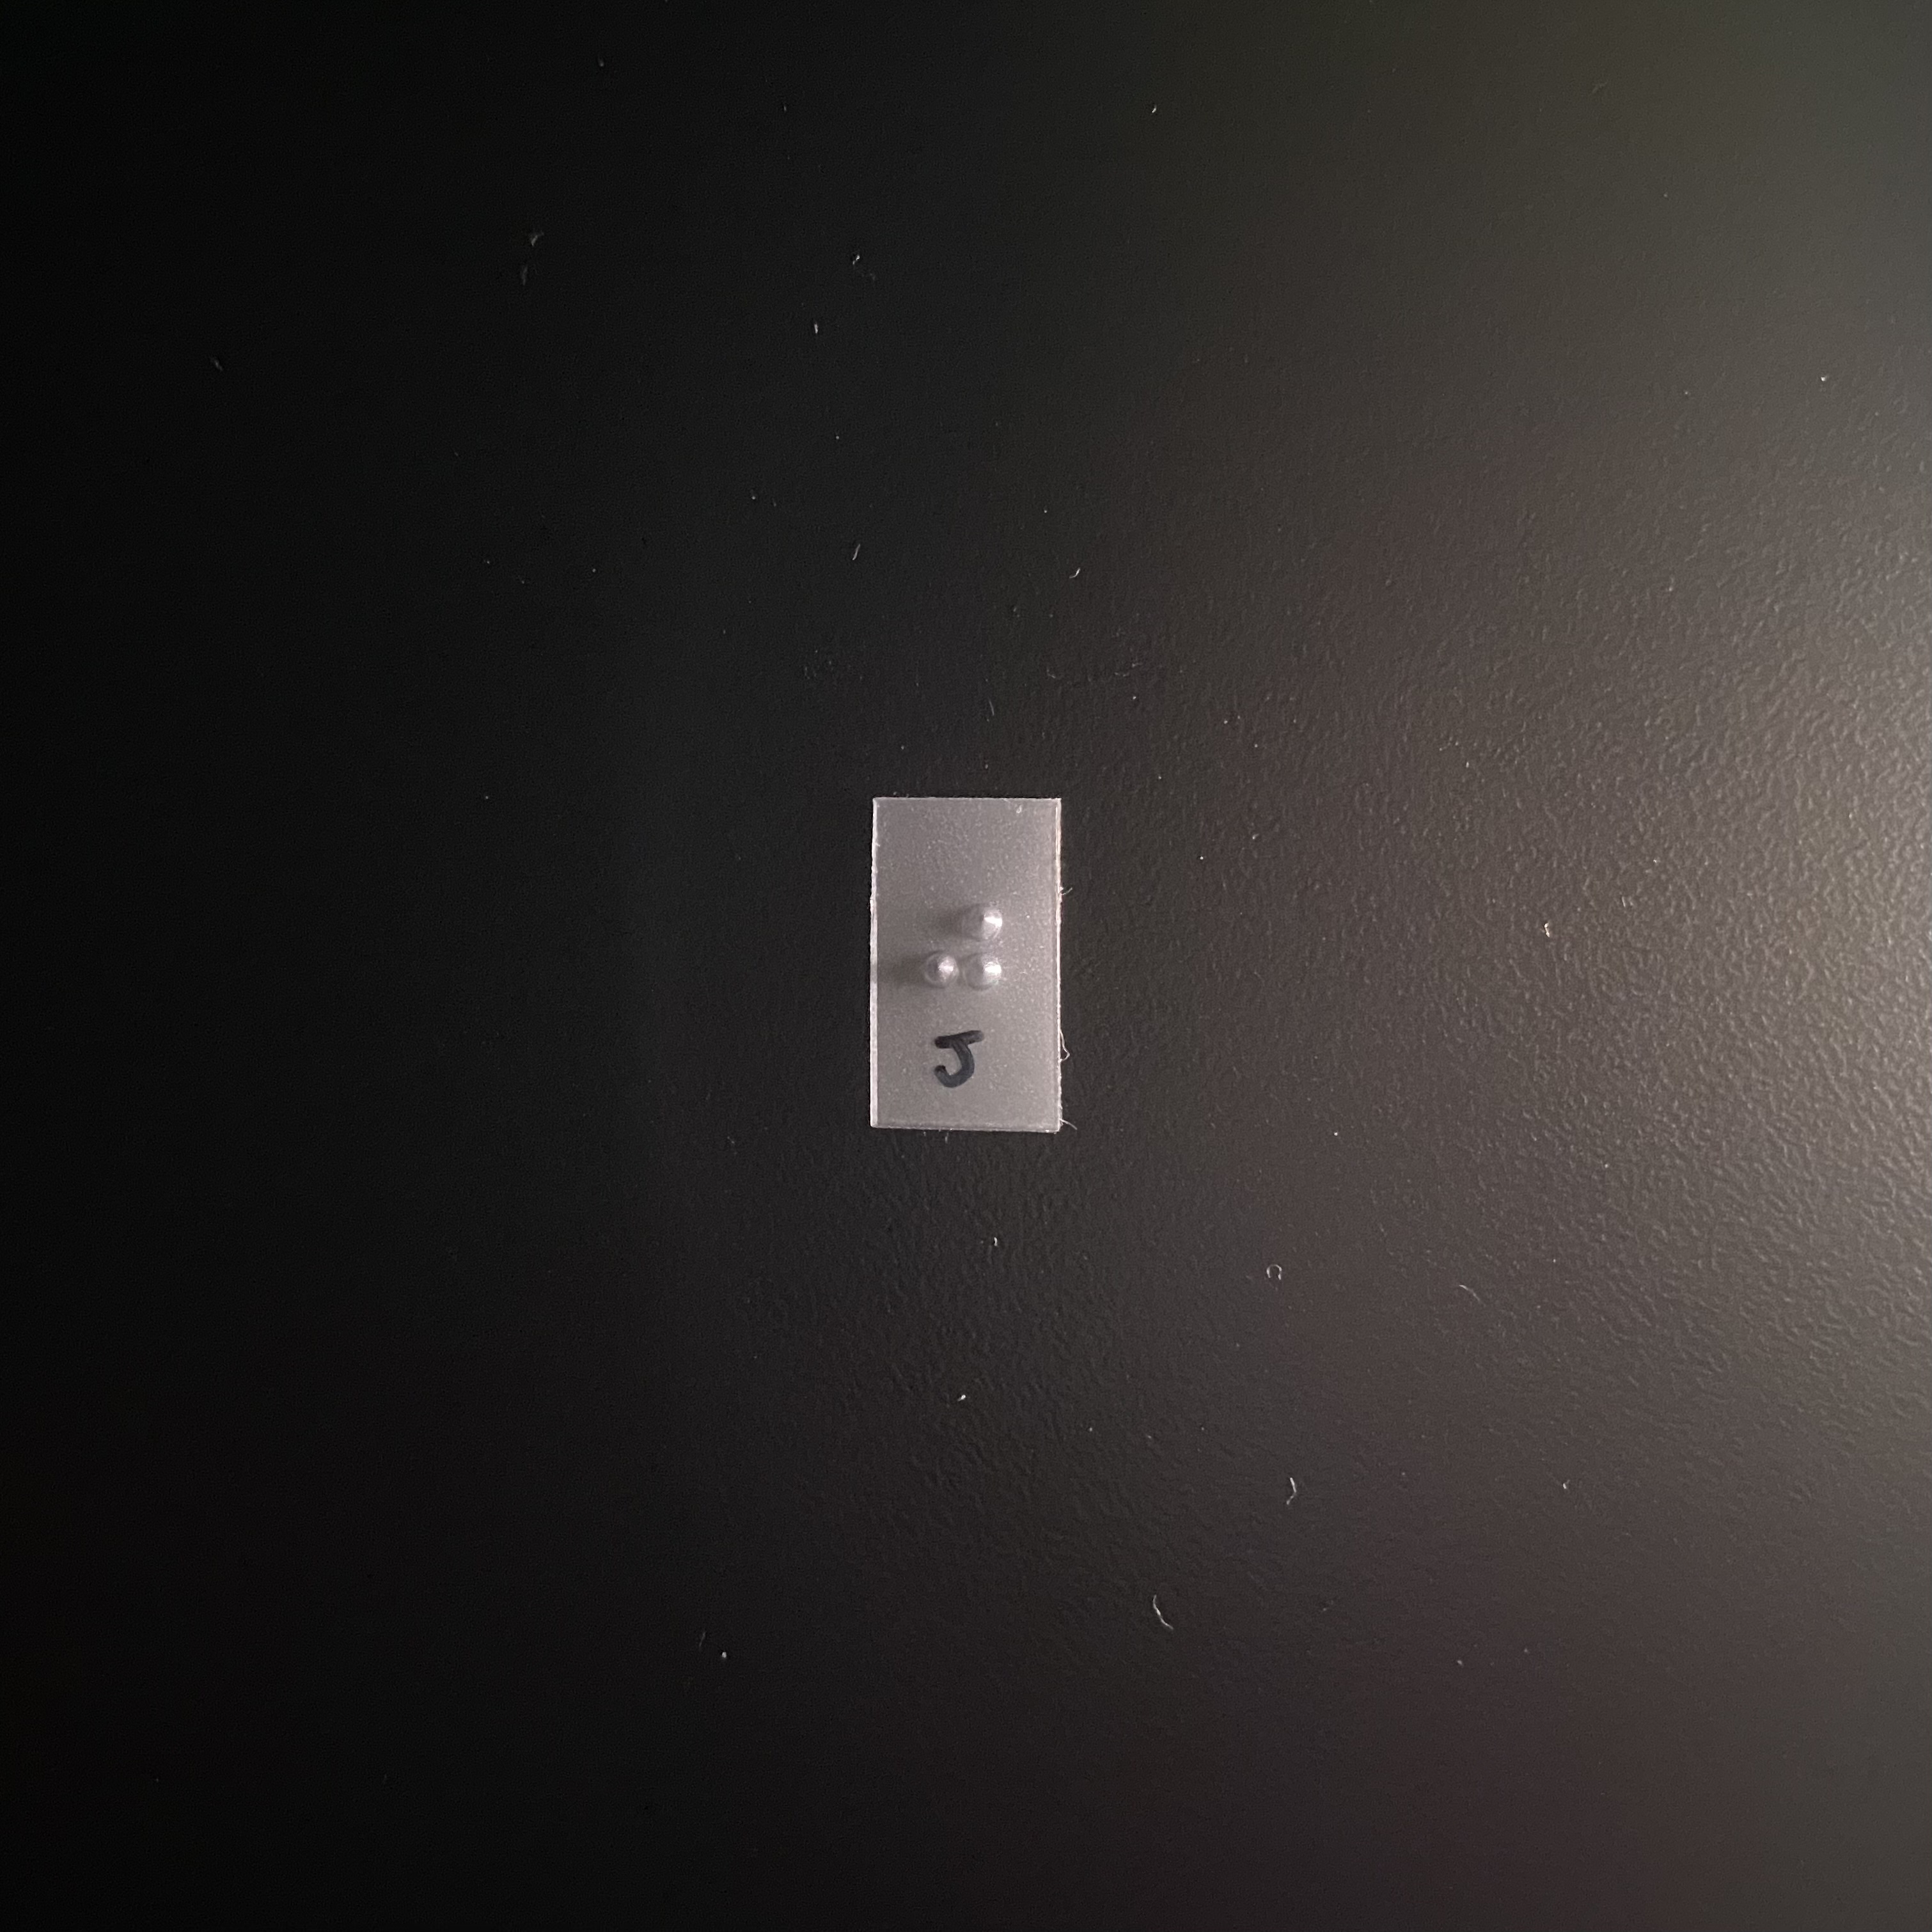j: (906, 899, 1012, 1048)
